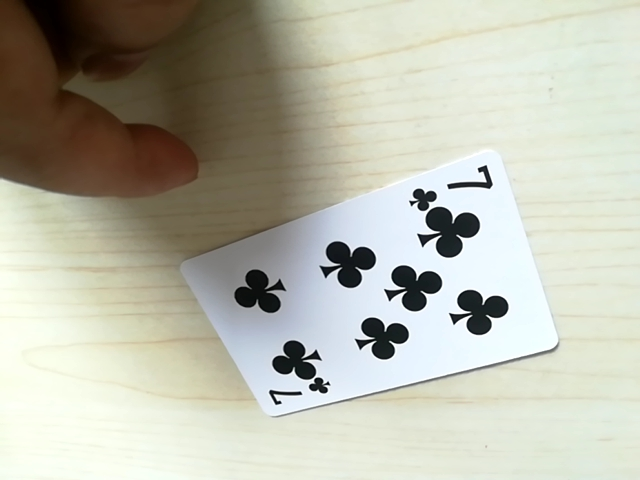mh 7: (407, 163, 499, 201), (257, 378, 333, 415)
